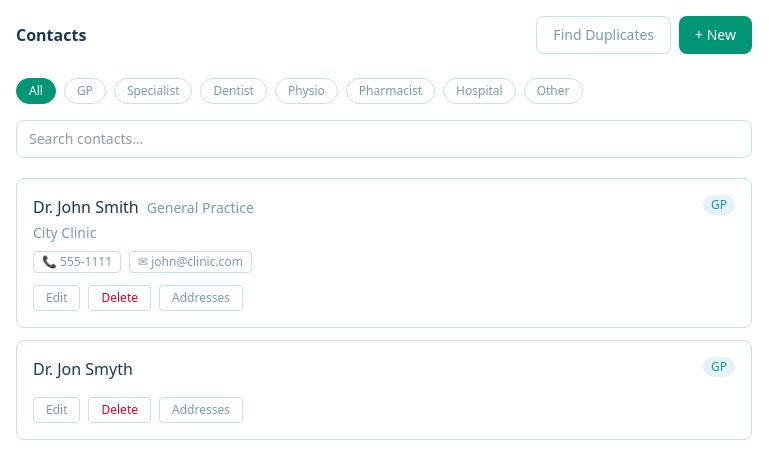
Test: ContactsPage › shows duplicate panel with match info after scan
What coordinates should you click on to do the following:
click the button "Find Duplicates"
I would click on:
 (604, 35)
Its box is [536,16,671,54].
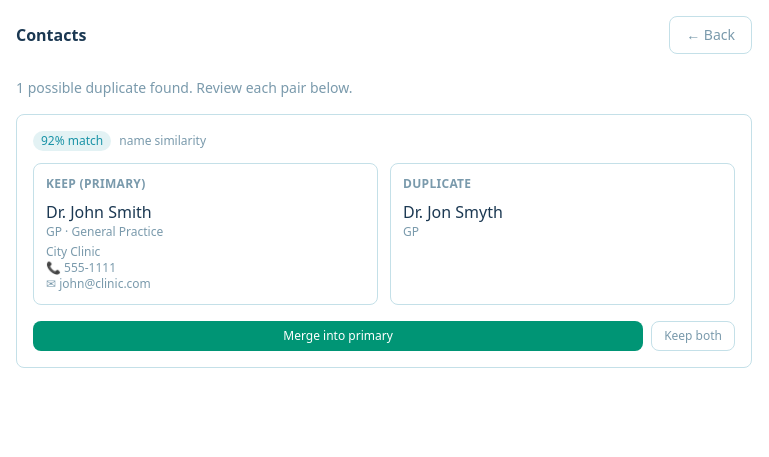
Expected: the text "92% match" is shown, [33,131,111,151]
Expected: the text "name similarity" is shown, [119,133,206,149]
Expected: the text "Keep (primary)" is shown, [46,175,146,192]
